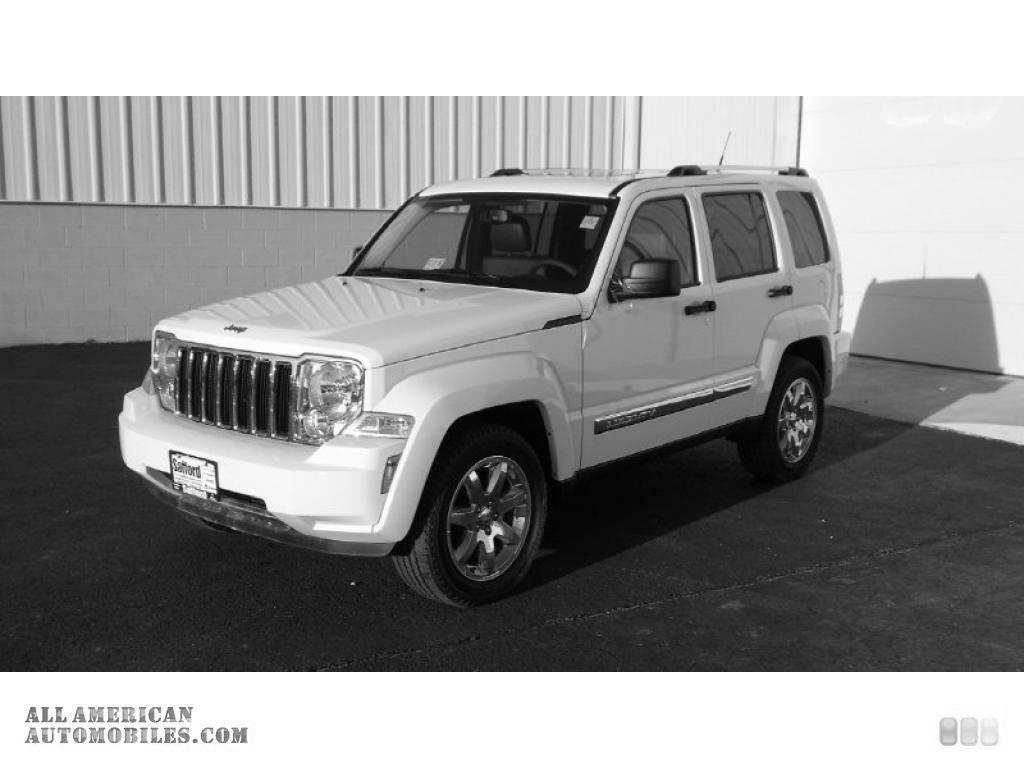car: (112, 162, 846, 617)
